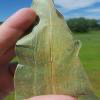Corn rust leaf: (15, 1, 95, 95)
